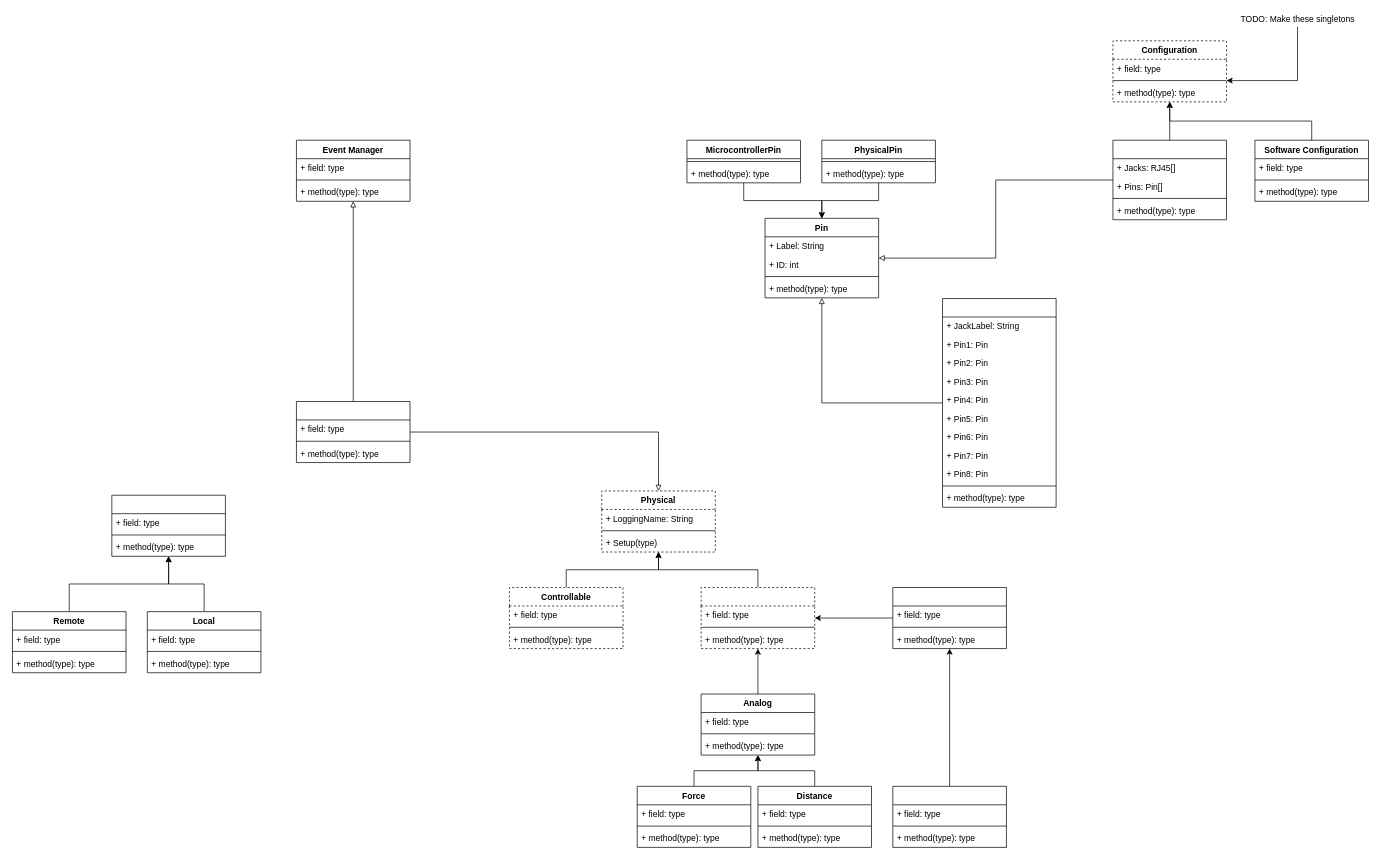
This 1381x861 diagram has some shape labels left out. The box of each missing label's shape, as (x1, y1, x2, y2) in pixels:
Digital: (892, 587, 1006, 649)
Hardware Configuration: (1112, 140, 1227, 220)
Reporting: (111, 495, 225, 556)
RJ45: (942, 298, 1056, 507)
Sensor: (700, 587, 815, 649)
State Machine: (296, 401, 410, 463)
Switch: (892, 786, 1006, 847)
